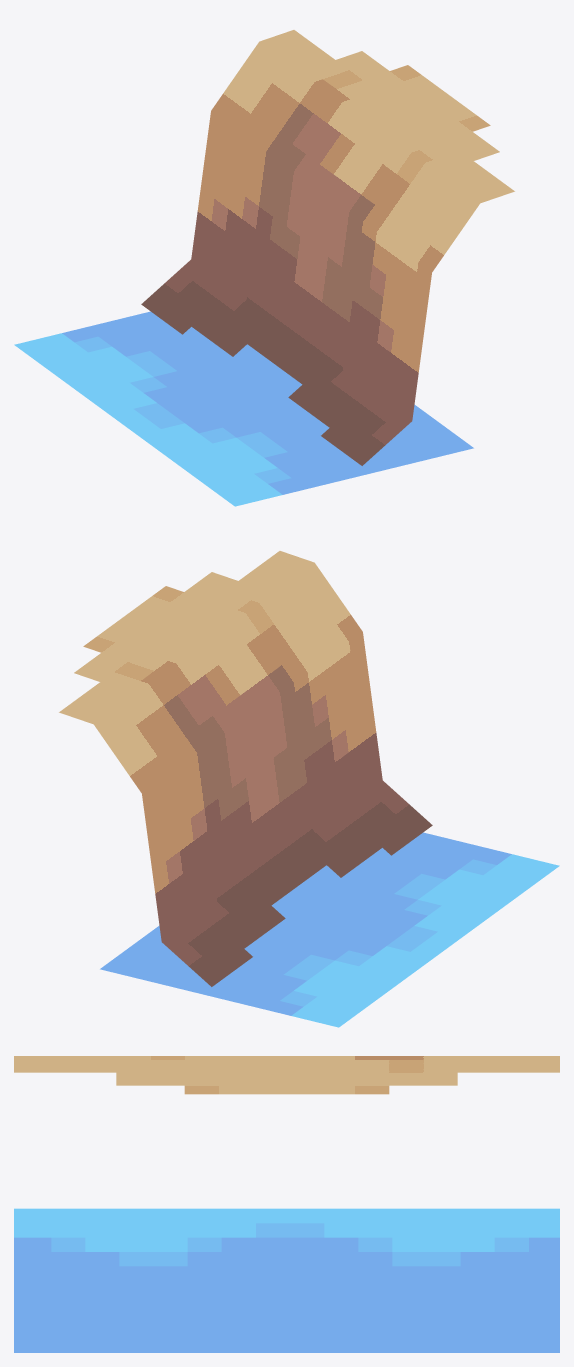
3 views of the same model, one above another, from view 1: azimuth 30°, elevation 25°; view 2: azimuth 150°, elevation 25°; view 3: azimuth 270°, elevation 25° (orthographic). The views are drawn at different scales.
Size of the model in its own units: 0.8486 by 0.627 by 1.
Materials: 2 (2 with a texture image).
